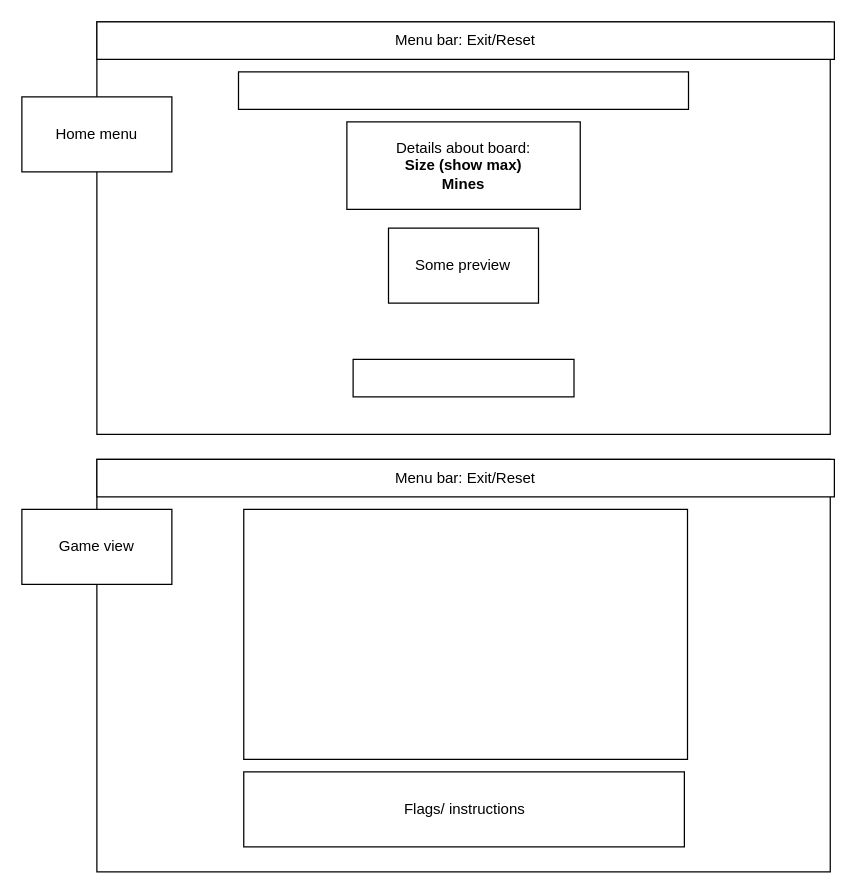
The diagram is 856 pixels wide and 894 high, and some of its shapes have lost their labels. Here are the shapes that lost their labels. From the top down, the centre of each, then its label:
the point at 462,90: Easy/Medium/Hard/Custom radio buttons
the point at 463,377: Start button
the point at 465,633: Grid
